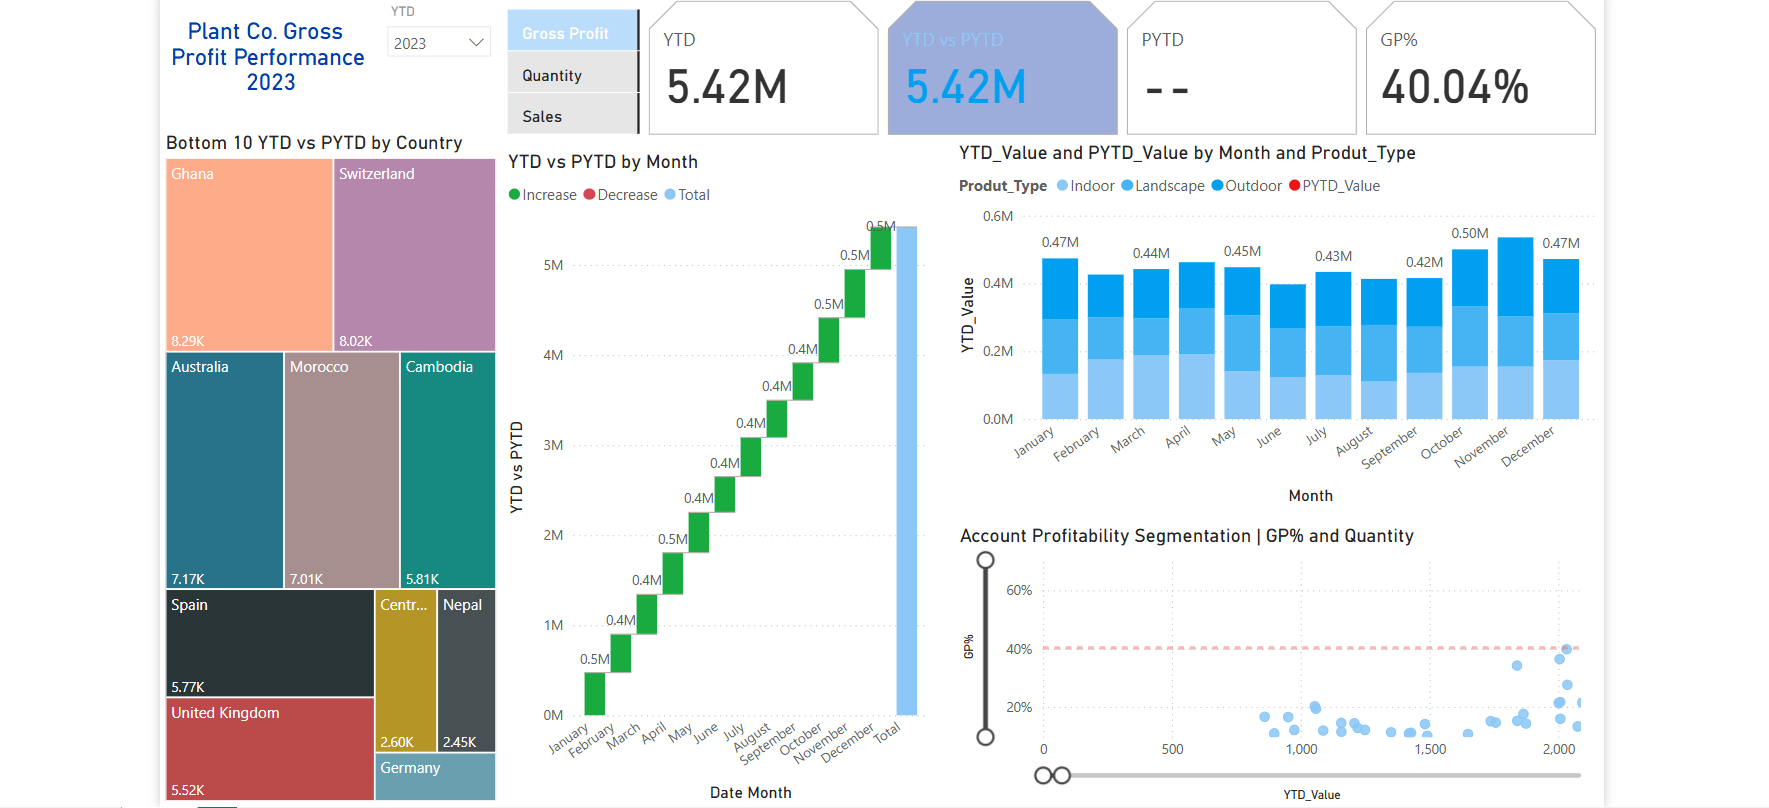

This screenshot's page, from the dashboard's own definition file:
{"tool":"powerbi","page":{"name":"Page 1","canvas":[1280,720],"ordinal":0},"visuals":[{"type":"cardVisual","fields":{"Data":["_Measures.S_YTD","_Measures.YTD vs PYTD","_Measures.S_PYTD","_Measures.GP%"]},"box":[427.9,0,852.3,129.1],"z":0},{"type":"advancedSlicerVisual","fields":{"Values":["Slicer Values.Values"]},"box":[303.5,8.1,127.9,120.9],"z":1000},{"type":"slicer","fields":{"Values":["Dim_Date.Date.Variation.Date Hierarchy.Year"]},"box":[192.3,13.5,110.2,50.9],"z":2000},{"type":"treemap","title":"Bottom 10 YTD vs PYTD by Country","fields":{"Values":["_Measures.YTD vs PYTD"],"Group":["Dim_Account.Country"]},"box":[0,137.2,303.5,583],"z":3000},{"type":"waterfallChart","fields":{"Y":["_Measures.YTD vs PYTD"],"Category":["Dim_Date.Date.Variation.Date Hierarchy.Month","Dim_Account.Country","Dim_Product.Produt_Type","Dim_Product.Product_Name_id"]},"box":[303.5,137.2,382.6,582.6],"z":4000},{"type":"lineStackedColumnComboChart","fields":{"Y":["_Measures.S_YTD"],"Y2":["_Measures.S_PYTD"],"Category":["Dim_Date.Date.Variation.Date Hierarchy.Month"],"Series":["Dim_Product.Produt_Type"]},"box":[703.5,129.1,576.7,327.9],"z":5000},{"type":"scatterChart","title":"Account Profitability Segmentation | GP% and Quantity","fields":{"Y":["_Measures.GP%"],"X":["_Measures.S_YTD"],"Category":["Dim_Account.Account"]},"box":[704,469,576,251],"z":6000},{"type":"card","fields":{"Values":["_Measures._Report title"]},"box":[0,0,192.3,64.4],"z":7000}]}

Visuals, with their boxes on the page's 1280x720 design canvas (x1, y1, x2, y2). These are canvas units, not pixel positions in the 1769x808 screenshot, which may show the page scaled, cropped or inside an application window:
cardVisual - _Measures.S_YTD x _Measures.YTD vs PYTD: bbox=[428, 0, 1280, 129]
advancedSlicerVisual - Slicer Values.Values: bbox=[304, 8, 431, 129]
slicer - Dim_Date.Date.Variation.Date Hierarchy.Year: bbox=[192, 14, 302, 64]
"Bottom 10 YTD vs PYTD by Country" treemap: bbox=[0, 137, 304, 720]
waterfallChart - _Measures.YTD vs PYTD x Dim_Date.Date.Variation.Date Hierarchy.Month: bbox=[304, 137, 686, 720]
lineStackedColumnComboChart - _Measures.S_YTD x _Measures.S_PYTD: bbox=[704, 129, 1280, 457]
"Account Profitability Segmentation | GP% and Quantity" scatterChart: bbox=[704, 469, 1280, 720]
card - _Measures._Report title: bbox=[0, 0, 192, 64]
